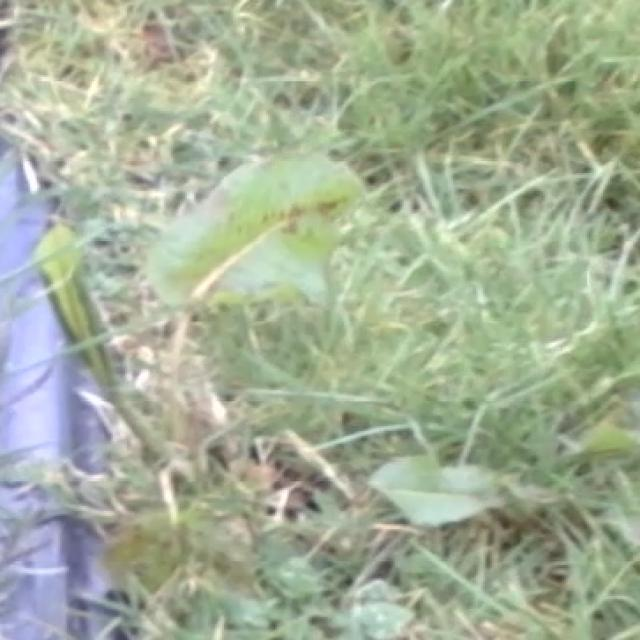organic waste: (54, 162, 430, 357)
